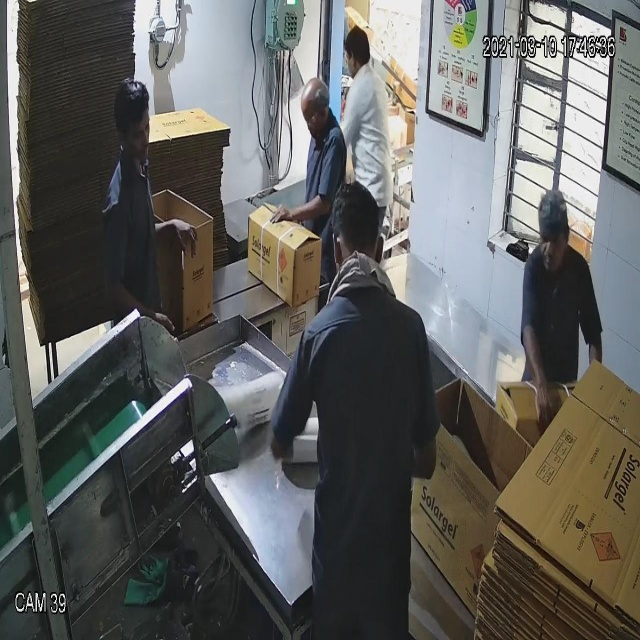Sin_guantes: (103, 265, 182, 345), (145, 196, 205, 279), (518, 313, 556, 444), (264, 178, 339, 240)
